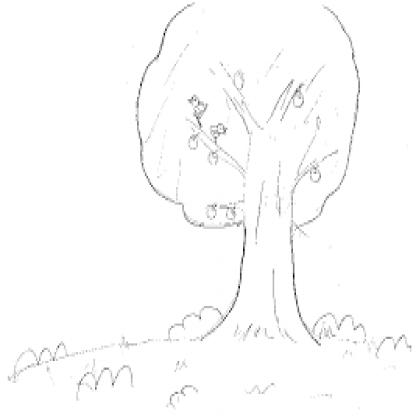apple: (233, 67, 246, 92), (207, 149, 221, 167), (206, 202, 218, 222), (309, 166, 322, 184), (293, 91, 306, 109), (225, 205, 238, 222), (188, 134, 200, 152)
bird: (187, 92, 209, 128), (208, 118, 228, 145)
branch_line: (188, 53, 340, 179)
crown_cloud: (132, 2, 364, 228)
root_none: (189, 314, 337, 383)
trunk_bark: (232, 229, 305, 316)
